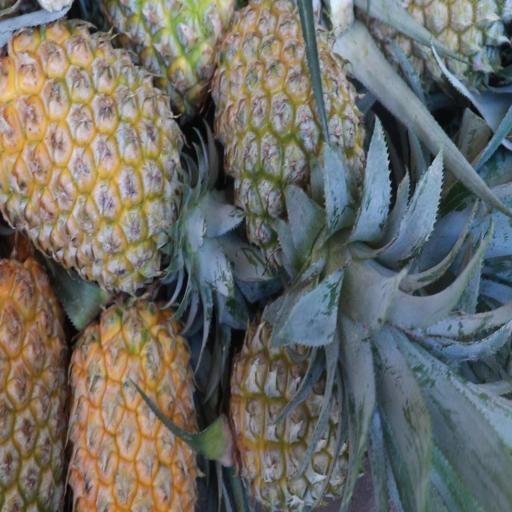------------------------------: (219, 3, 362, 240), (233, 304, 363, 507)
Pineapple - v8 v1: (1, 36, 182, 268), (71, 294, 196, 512), (0, 258, 77, 506)
